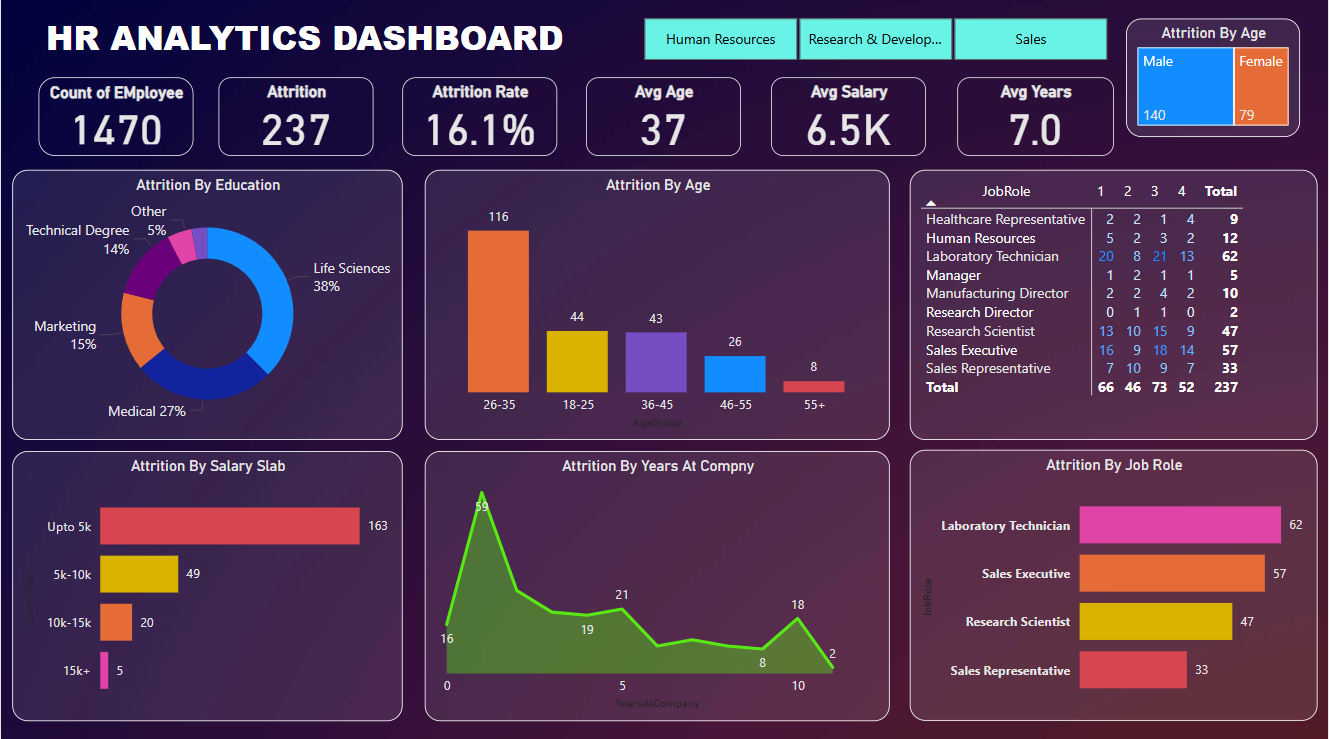

What the dashboard file says about the page in this screenshot:
{"tool":"powerbi","page":{"name":"Page 1","canvas":[1280,720],"ordinal":0},"visuals":[{"type":"card","title":"Count of EMployee","fields":{"Values":["CountNonNull(HR_Analytics.EmpID)"]},"box":[36.2,78.4,149.6,76],"z":0},{"type":"card","title":"Attrition ","fields":{"Values":["Sum(HR_Analytics.AttritionCount)"]},"box":[209.9,78.4,149.6,76],"z":1000},{"type":"card","title":"Attrition Rate","fields":{"Values":["HR_Analytics.AttritionRate"]},"box":[387.3,78.4,149.6,76],"z":2000},{"type":"card","title":"Avg Age","fields":{"Values":["Avg(HR_Analytics.Age)"]},"box":[564.6,78.4,149.6,76],"z":3000},{"type":"card","title":"Avg Salary","fields":{"Values":["Avg(HR_Analytics.MonthlyIncome)"]},"box":[743.2,78.4,149.6,76],"z":4000},{"type":"card","title":"Avg Years","fields":{"Values":["Avg(HR_Analytics.YearsAtCompany)"]},"box":[922.9,78.4,150.8,76],"z":5000},{"type":"columnChart","title":"Attrition By Age","fields":{"Category":["HR_Analytics.AgeGroup"],"Y":["Sum(HR_Analytics.AttritionCount)"]},"box":[409,167.7,448.8,260.6],"z":6000},{"type":"donutChart","title":"Attrition By Education","fields":{"Category":["HR_Analytics.EducationField"],"Y":["Sum(HR_Analytics.AttritionCount)"]},"box":[10.9,167.7,376.4,260.6],"z":7000},{"type":"pivotTable","fields":{"Rows":["HR_Analytics.JobRole"],"Columns":["HR_Analytics.JobSatisfaction"],"Values":["Sum(HR_Analytics.AttritionCount)"]},"box":[877.1,167.7,393.3,260.6],"z":8000},{"type":"clusteredBarChart","title":"Attrition By Salary Slab","fields":{"Category":["HR_Analytics.SalarySlab"],"Y":["Sum(HR_Analytics.AttritionCount)"]},"box":[10.9,439.1,376.4,260.6],"z":9000},{"type":"clusteredBarChart","title":"Attrition By Job Role","fields":{"Category":["HR_Analytics.JobRole"],"Y":["Sum(HR_Analytics.AttritionCount)"]},"box":[877.1,437.9,393.3,261.8],"z":10000},{"type":"areaChart","title":"Attrition By Years At Compny","fields":{"Category":["HR_Analytics.YearsAtCompany"],"Y":["Sum(HR_Analytics.AttritionCount)"]},"box":[409,439.1,448.8,260.6],"z":11000},{"type":"treemap","title":"Attrition By Age","fields":{"Group":["HR_Analytics.Gender"],"Values":["Sum(HR_Analytics.AttritionCount)"]},"box":[1085.8,21.7,167.7,114.6],"z":12000},{"type":"slicer","fields":{"Values":["HR_Analytics.Department"]},"box":[594.8,14.5,497.1,54.3],"z":13000},{"type":"textbox","box":[19.3,12.1,547.7,56.7],"z":14000}]}

Visuals, with their boxes in screenshot pixels (x1, y1, x2, y2), scaled from the page's 1280x720 canvas onto the 1329x739 screenshot:
"Count of EMployee" card: detection(38, 80, 193, 158)
"Attrition " card: detection(218, 80, 373, 158)
"Attrition Rate" card: detection(402, 80, 557, 158)
"Avg Age" card: detection(586, 80, 742, 158)
"Avg Salary" card: detection(772, 80, 927, 158)
"Avg Years" card: detection(958, 80, 1115, 158)
"Attrition By Age" columnChart: detection(425, 172, 891, 440)
"Attrition By Education" donutChart: detection(11, 172, 402, 440)
pivotTable - HR_Analytics.JobRole x HR_Analytics.JobSatisfaction: detection(911, 172, 1319, 440)
"Attrition By Salary Slab" clusteredBarChart: detection(11, 451, 402, 718)
"Attrition By Job Role" clusteredBarChart: detection(911, 449, 1319, 718)
"Attrition By Years At Compny" areaChart: detection(425, 451, 891, 718)
"Attrition By Age" treemap: detection(1127, 22, 1301, 140)
slicer - HR_Analytics.Department: detection(618, 15, 1134, 71)
textbox: detection(20, 12, 589, 71)
